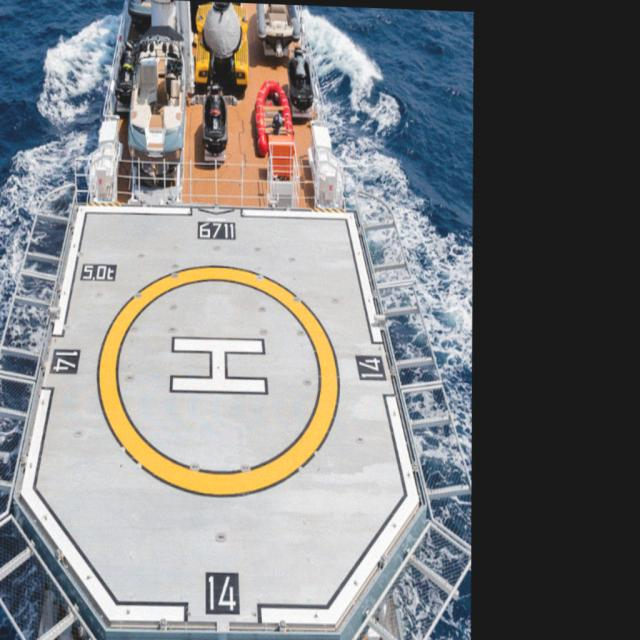helipad: (90, 262, 345, 502)
